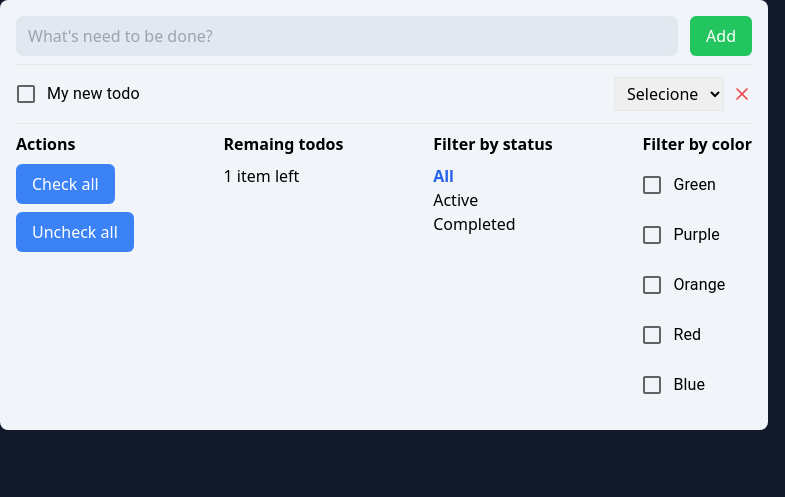
Test: Todos test › Should be able to remove an todo
This screenshot has width=785, height=497.
In the field with placeholder "What's need to be done?": (347, 36) [16,16,678,56], type "Do something"
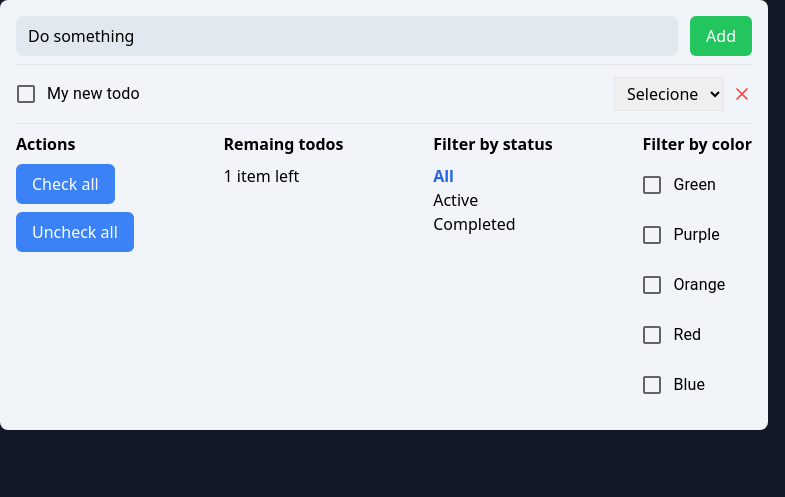
Click the button "Add": (721, 36) [690,16,752,56]
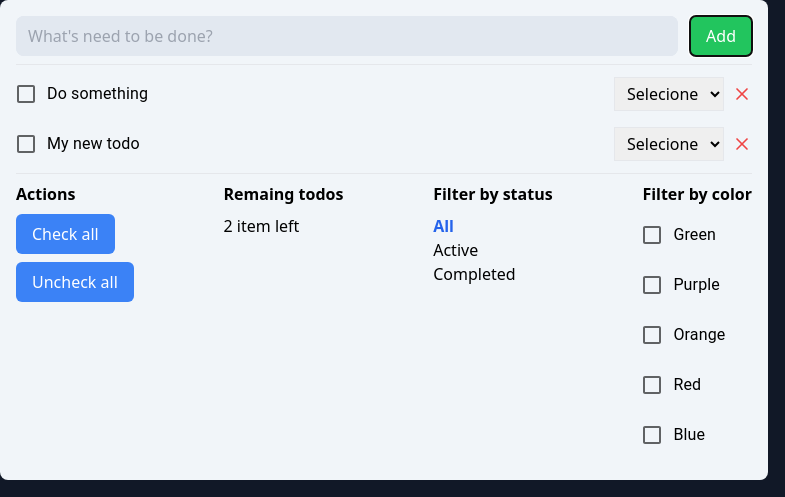
Click the button without text in the row of "Do something": (742, 94) [732,84,752,104]
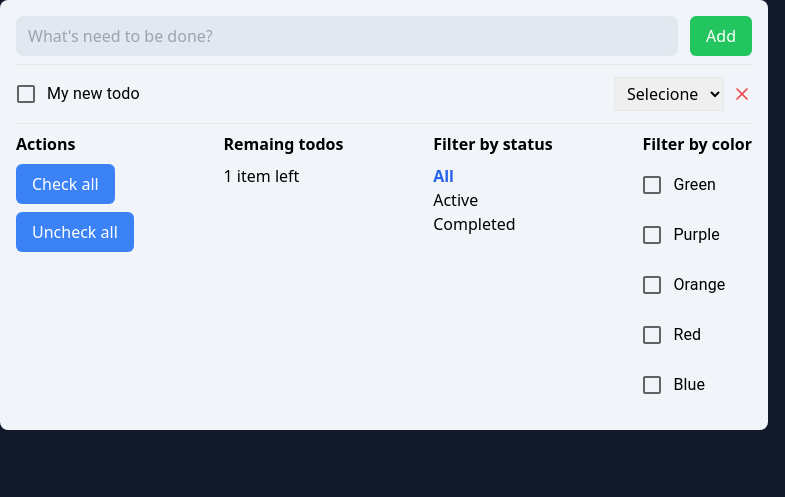
Expected: the text labelled "Do something" is gone
